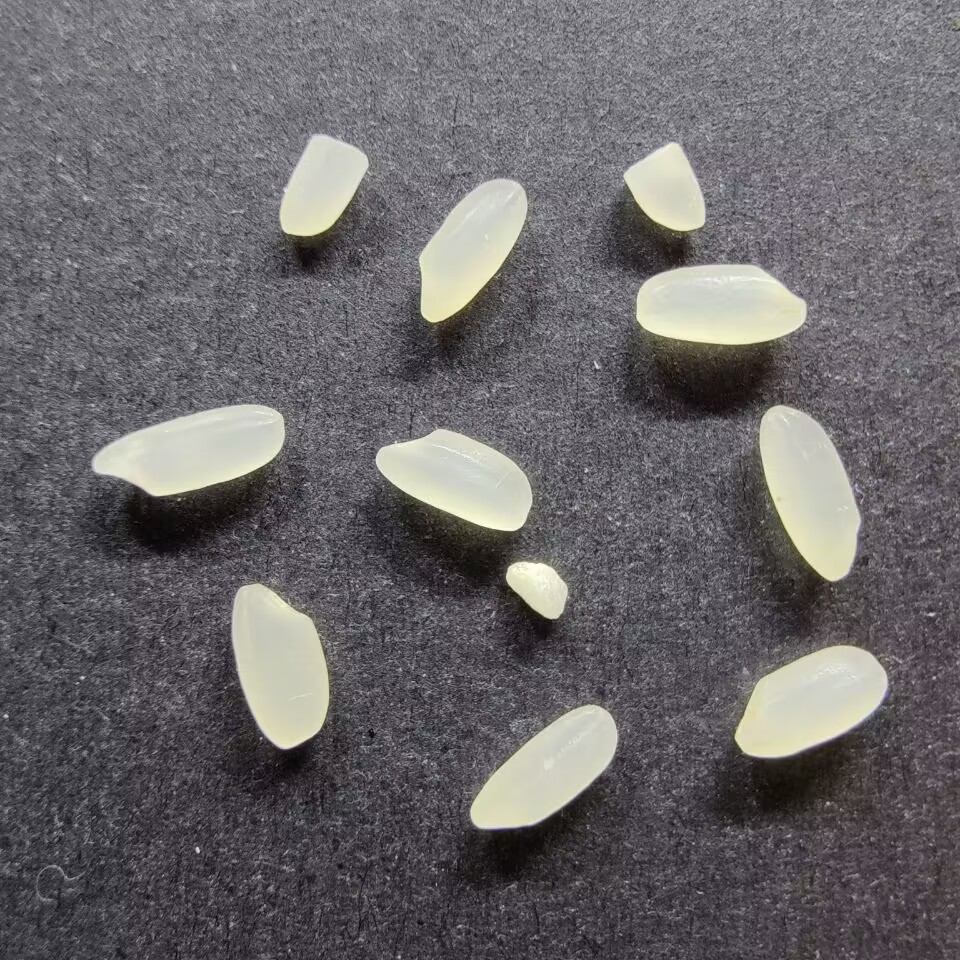broken: (275, 131, 369, 239), (619, 139, 708, 233), (503, 556, 570, 623)
rice: (468, 704, 621, 833), (89, 401, 289, 498), (757, 404, 864, 585), (730, 643, 891, 760), (372, 427, 534, 532), (230, 581, 329, 751), (416, 176, 527, 324), (634, 262, 809, 346)
